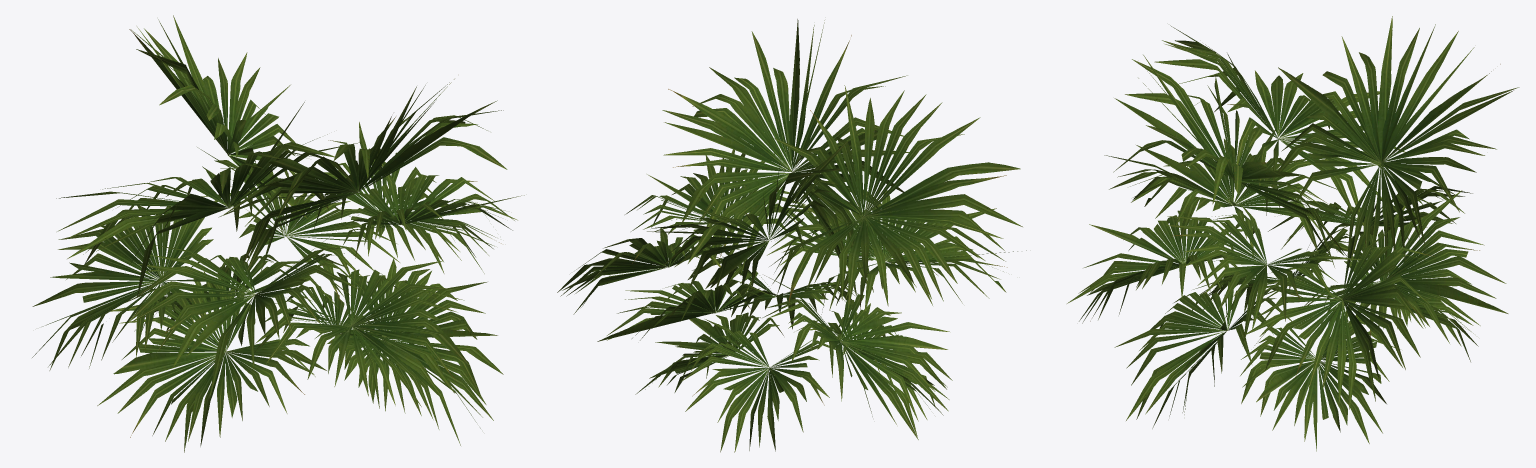
The model's file is loulu_crown_far.glb.
The picture shows the model from 3 angles, left to right: view 1: azimuth 30°, elevation 25°; view 2: azimuth 150°, elevation 25°; view 3: azimuth 270°, elevation 25°; orthographic projection. The views are drawn at different scales.
Visible parts, largest first — view 1: LIVISTONA_CHINENSIS; view 2: LIVISTONA_CHINENSIS; view 3: LIVISTONA_CHINENSIS.
Boxes of the visible parts, x1=… form: LIVISTONA_CHINENSIS: x1=32, y1=15, x2=524, y2=452; LIVISTONA_CHINENSIS: x1=557, y1=19, x2=1026, y2=452; LIVISTONA_CHINENSIS: x1=1067, y1=16, x2=1519, y2=451.
Bounding box in the file's own units: 1.6 × 1.24 × 1.45.
1 material, 1 textured.
